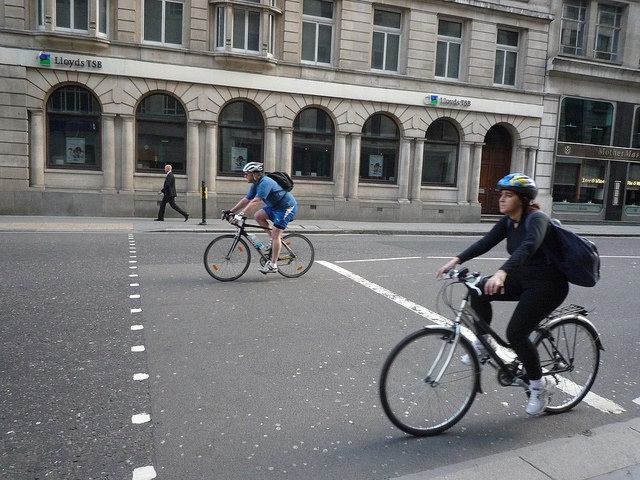non-vehicle: (376, 266, 607, 435), (203, 209, 313, 282)
